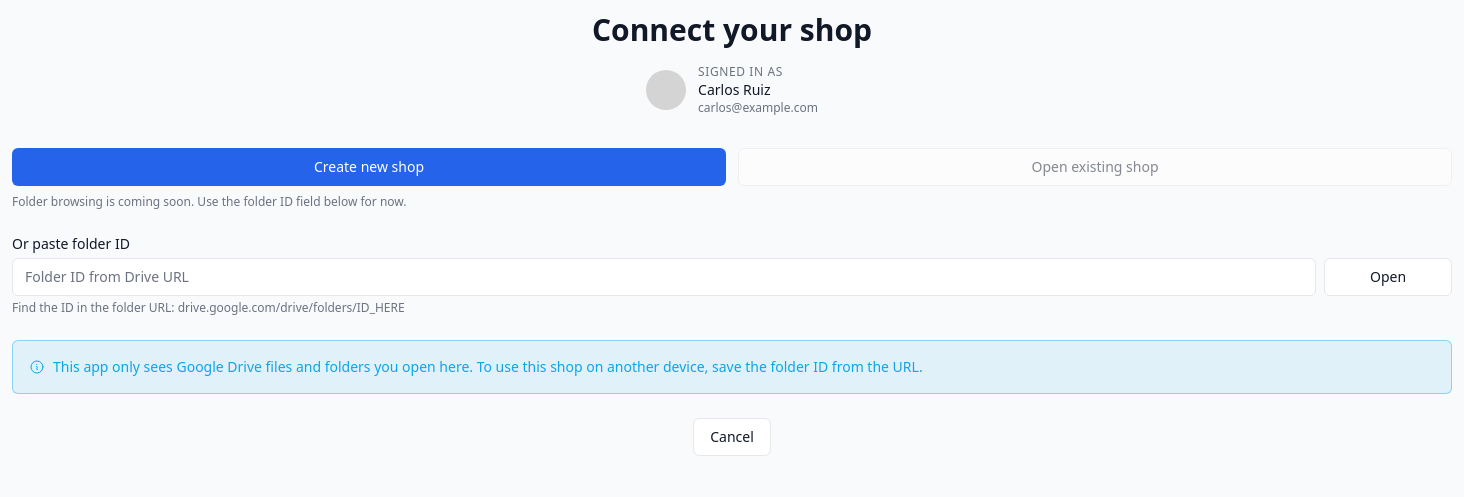
Test case: GoogleDriveStep › clears the validation error once a real id is submitted
Click the button with test id "wizard-google-open-by-id" at [1388, 277], box [1324,258,1452,296]
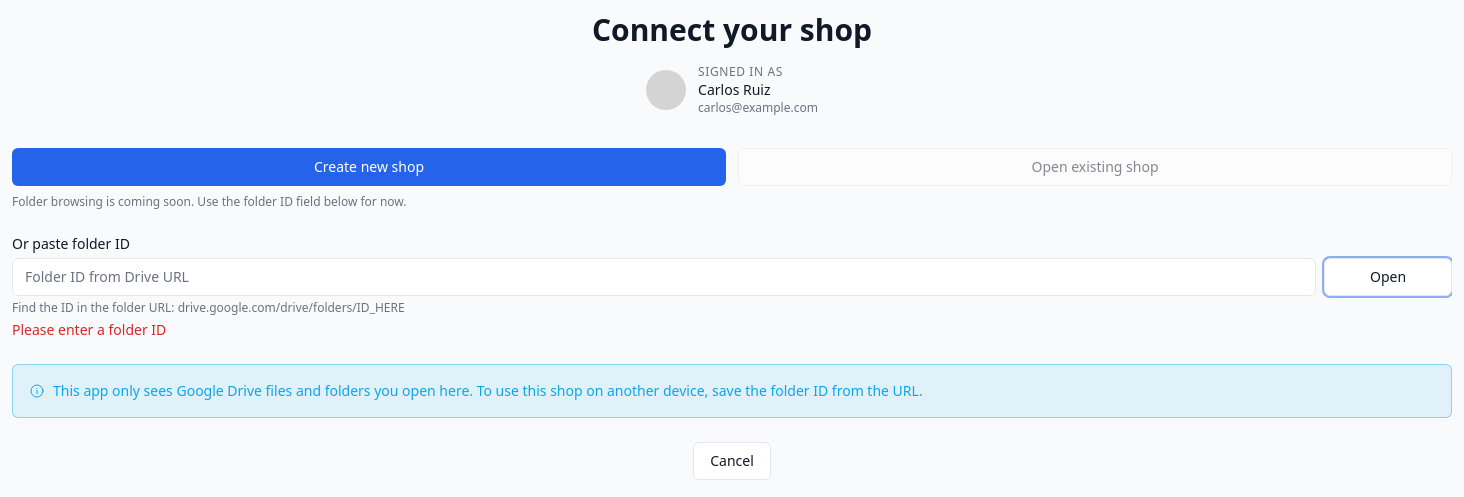
Expected: the message "Please enter a folder ID" is shown, [12,320,166,339]
Type "FOLDER-123" into the field with test id "wizard-folder-id" at [664, 277], box [12,258,1316,296]
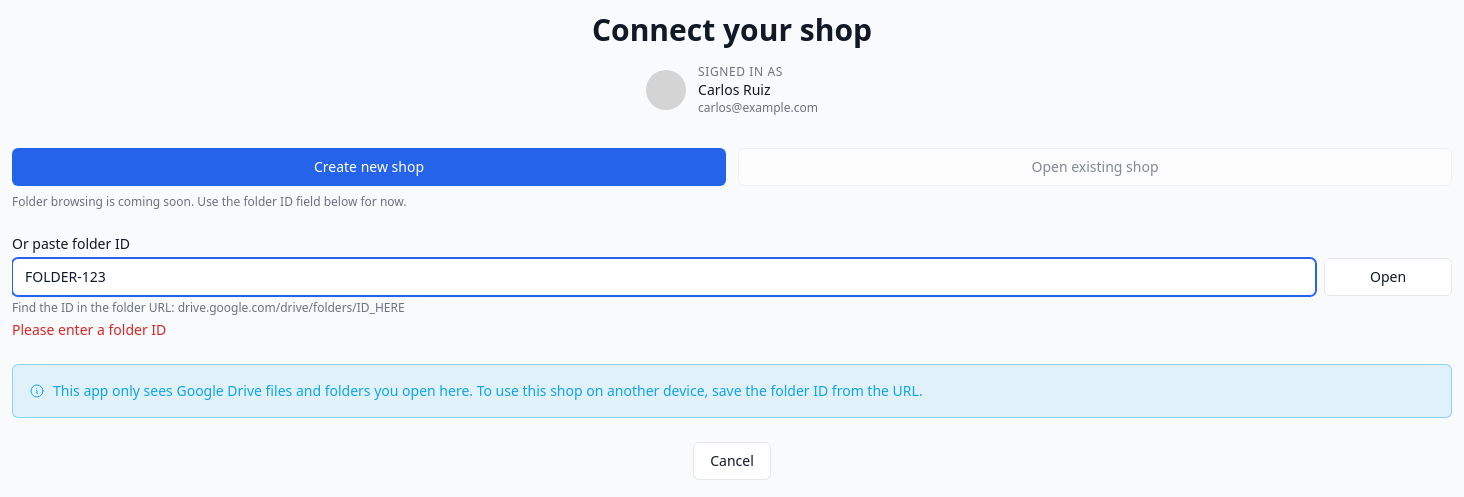
Click the button with test id "wizard-google-open-by-id" at [1388, 277], box [1324,258,1452,296]
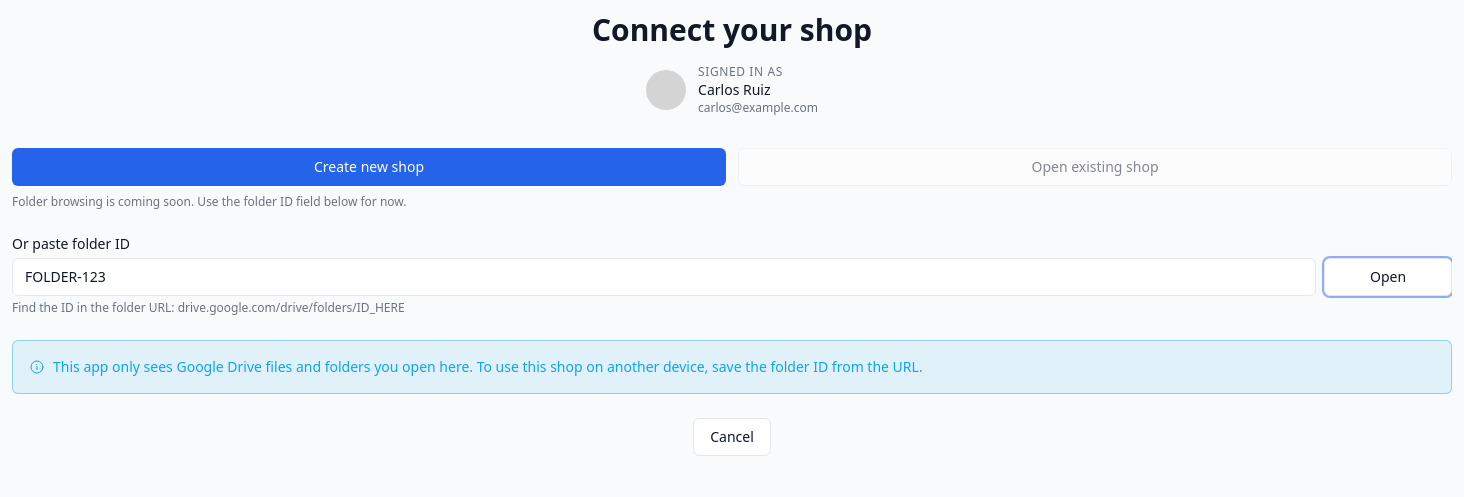
Expected: the message "Please enter a folder ID" is gone
